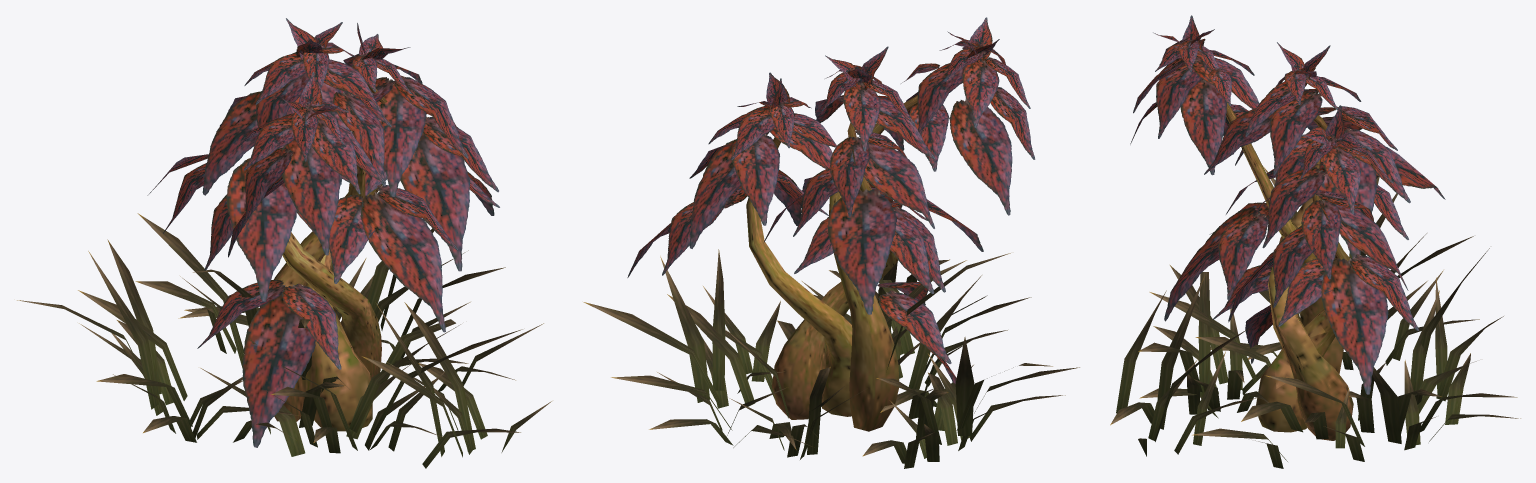
Rendered from Dream_Plant02b.FBX.
The picture shows the model from 3 angles, left to right: view 1: azimuth 30°, elevation 25°; view 2: azimuth 150°, elevation 25°; view 3: azimuth 270°, elevation 25°; orthographic projection. The views are drawn at different scales.
Visible parts, largest first — view 1: Dream_Plant02b; view 2: Dream_Plant02b; view 3: Dream_Plant02b.
Boxes of the visible parts, x1,y1,x2,y2 form: Dream_Plant02b: [17, 18, 551, 468]; Dream_Plant02b: [583, 17, 1079, 468]; Dream_Plant02b: [1110, 15, 1520, 468].
Bounding box in the file's own units: 1.28 × 1.01 × 1.03.
